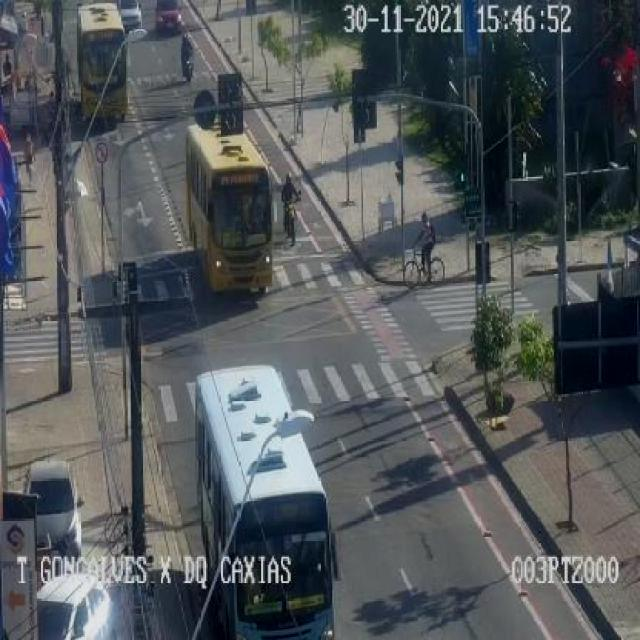Bus: (198, 361, 338, 640), (182, 116, 277, 297), (77, 0, 126, 123)
Car: (19, 461, 83, 565), (38, 571, 119, 640), (153, 0, 183, 36), (120, 0, 145, 28)
Cycle: (402, 243, 447, 289), (282, 197, 301, 246), (180, 48, 197, 82)
